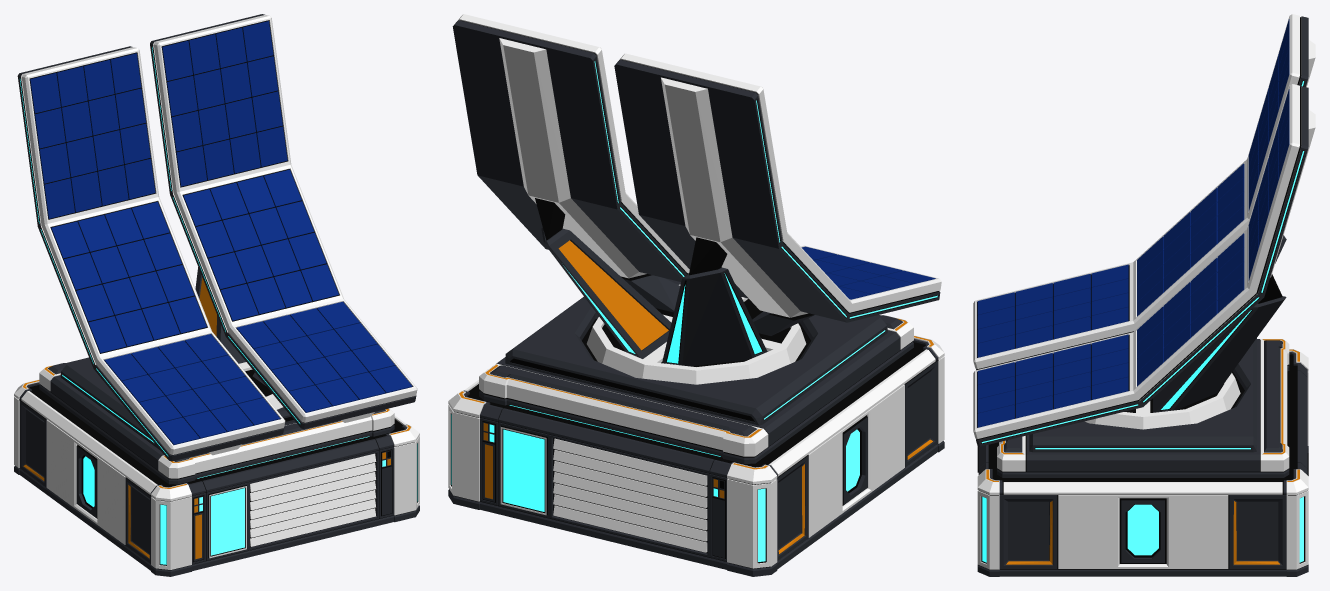
Rendered from SM_SolarPanel_T3.fbx.
3 views of the same model, side by side, from view 1: azimuth 30°, elevation 25°; view 2: azimuth 150°, elevation 25°; view 3: azimuth 270°, elevation 25° (orthographic). The views are drawn at different scales.
Visible parts, largest first — view 1: SM_SolarPanel_T3_Panel, SM_SolarPanel_T3_Base; view 2: SM_SolarPanel_T3_Panel, SM_SolarPanel_T3_Base; view 3: SM_SolarPanel_T3_Panel, SM_SolarPanel_T3_Base.
Part boxes in pixels (x1,y1,x2,y2): SM_SolarPanel_T3_Panel: (17, 14, 417, 461); SM_SolarPanel_T3_Base: (14, 357, 419, 576); SM_SolarPanel_T3_Panel: (452, 14, 941, 384); SM_SolarPanel_T3_Base: (448, 278, 944, 576); SM_SolarPanel_T3_Panel: (973, 14, 1315, 446); SM_SolarPanel_T3_Base: (977, 338, 1308, 576).
Bounding box in the file's own units: 300 × 429 × 310.
